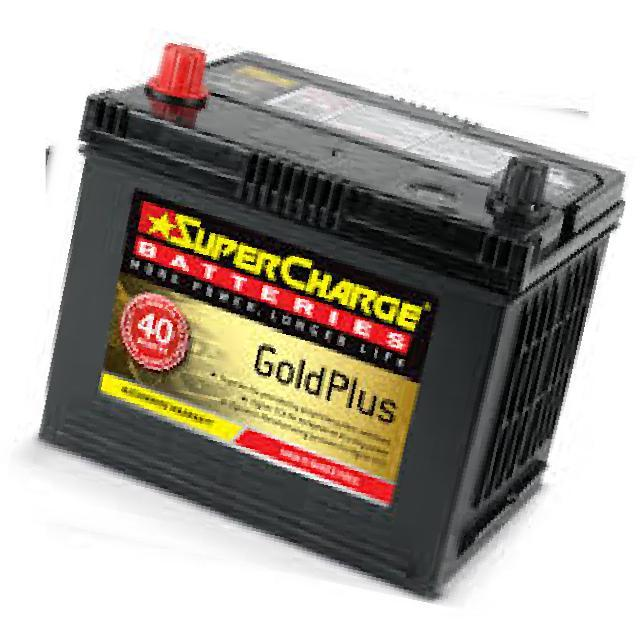Battery: (26, 27, 640, 601)
